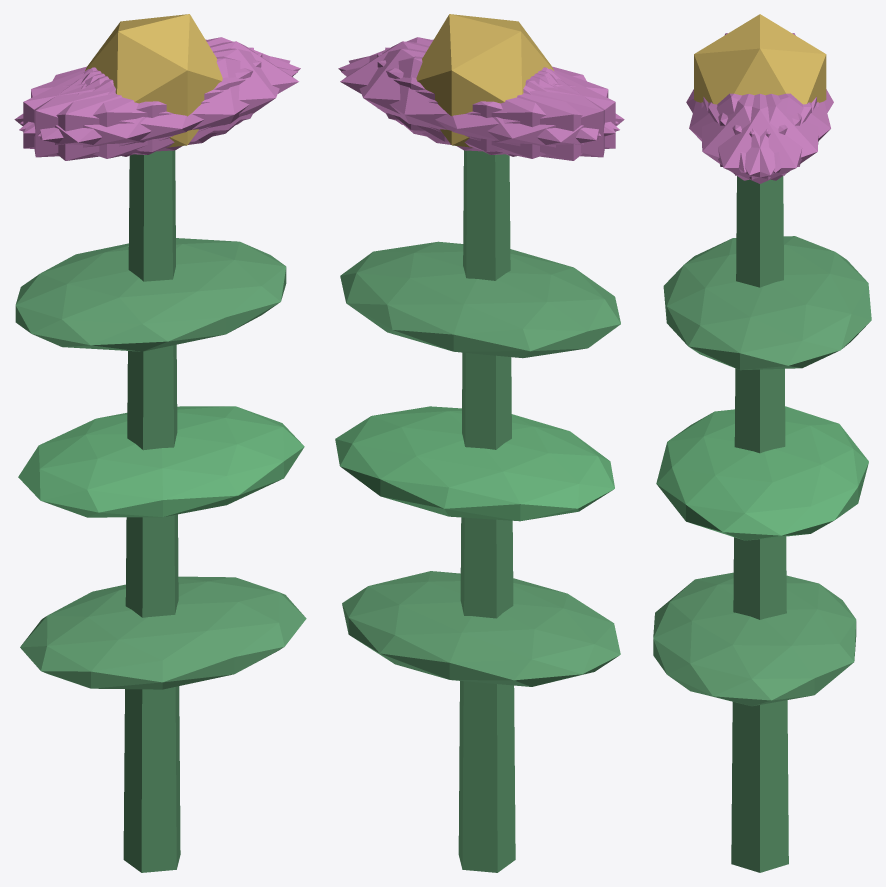
The model's file is alternanthera-sessilis.glb.
The picture shows the model from 3 angles, left to right: view 1: azimuth 30°, elevation 25°; view 2: azimuth 150°, elevation 25°; view 3: azimuth 270°, elevation 25°; orthographic projection.
Visible parts, largest first — view 1: stem, leaf1, leaf0, leaf2, center, petal1, petal6, petal2, petal5, petal7, petal0, petal4 (+2 smaller); view 2: stem, leaf2, leaf1, leaf0, center, petal8, petal3, petal7, petal4, petal2, petal0, petal5 (+2 smaller); view 3: stem, leaf1, leaf2, leaf0, center, petal0, petal4, petal5, petal8, petal1.
Part boxes in pixels (bbox=[...]): stem: bbox=[123, 150, 180, 872]; leaf1: bbox=[18, 406, 304, 517]; leaf0: bbox=[20, 576, 306, 689]; leaf2: bbox=[15, 238, 286, 351]; center: bbox=[85, 14, 222, 147]; petal1: bbox=[19, 56, 298, 158]; petal6: bbox=[14, 69, 216, 160]; petal2: bbox=[34, 47, 253, 157]; petal5: bbox=[38, 48, 290, 151]; petal7: bbox=[23, 53, 262, 154]; petal0: bbox=[85, 41, 298, 141]; petal4: bbox=[20, 37, 300, 133]; stem: bbox=[458, 150, 515, 872]; leaf2: bbox=[340, 241, 620, 358]; leaf1: bbox=[335, 406, 614, 521]; leaf0: bbox=[342, 571, 620, 686]; center: bbox=[416, 14, 553, 147]; petal8: bbox=[341, 56, 619, 158]; petal3: bbox=[422, 69, 624, 160]; petal7: bbox=[385, 47, 604, 157]; petal4: bbox=[349, 48, 600, 151]; petal2: bbox=[377, 53, 615, 154]; petal0: bbox=[340, 41, 554, 141]; petal5: bbox=[338, 37, 618, 133]; stem: bbox=[731, 176, 788, 872]; leaf1: bbox=[656, 406, 868, 540]; leaf2: bbox=[663, 236, 871, 370]; leaf0: bbox=[653, 572, 856, 706]; center: bbox=[694, 14, 826, 104]; petal0: bbox=[703, 94, 816, 183]; petal4: bbox=[708, 93, 818, 180]; petal5: bbox=[701, 94, 811, 180]; petal8: bbox=[718, 93, 830, 172]; petal1: bbox=[689, 93, 801, 172].
Bounding box in the file's own units: 0.1452 × 0.4231 × 0.1011.
